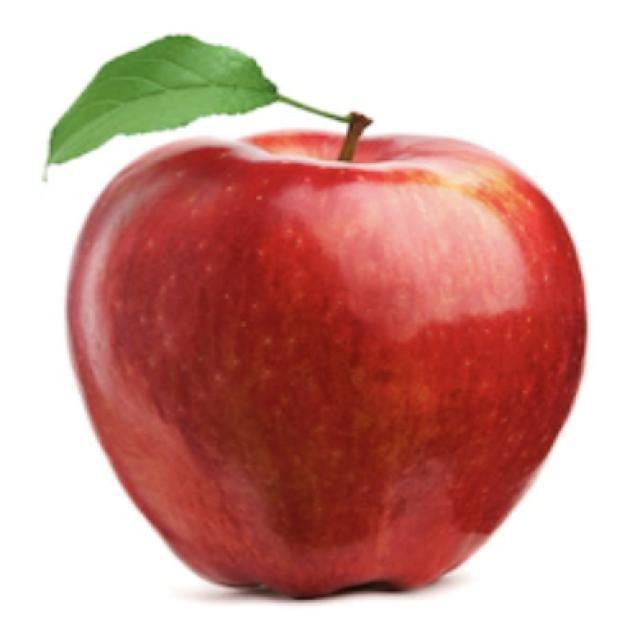Fresh Apple: (79, 124, 574, 598)
